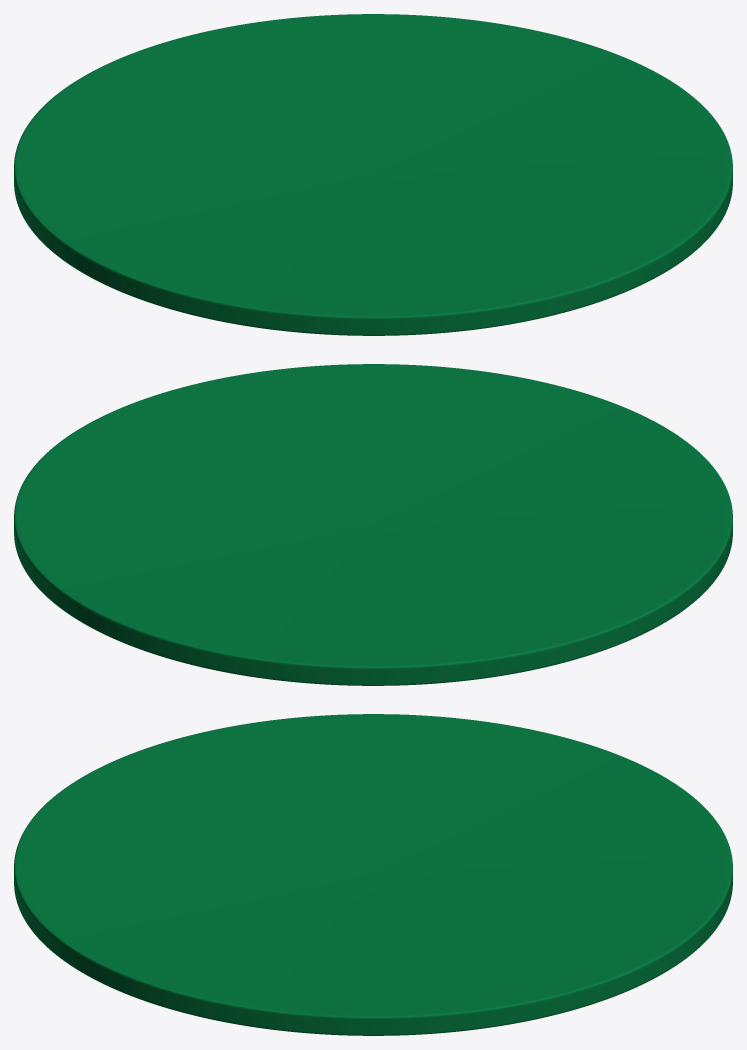
File: Round_Table 1.fbx
3 views of the same model, one above another, from view 1: azimuth 30°, elevation 25°; view 2: azimuth 150°, elevation 25°; view 3: azimuth 270°, elevation 25° (orthographic).
Parts seen in each view (by area): view 1: Circle; view 2: Circle; view 3: Circle.
Part boxes in pixels (box(x1,y1,x2,y2)): Circle: box(14, 14, 732, 335); Circle: box(14, 364, 732, 685); Circle: box(14, 714, 732, 1035).
Bounding box in the file's own units: 199 × 5.92 × 199.
